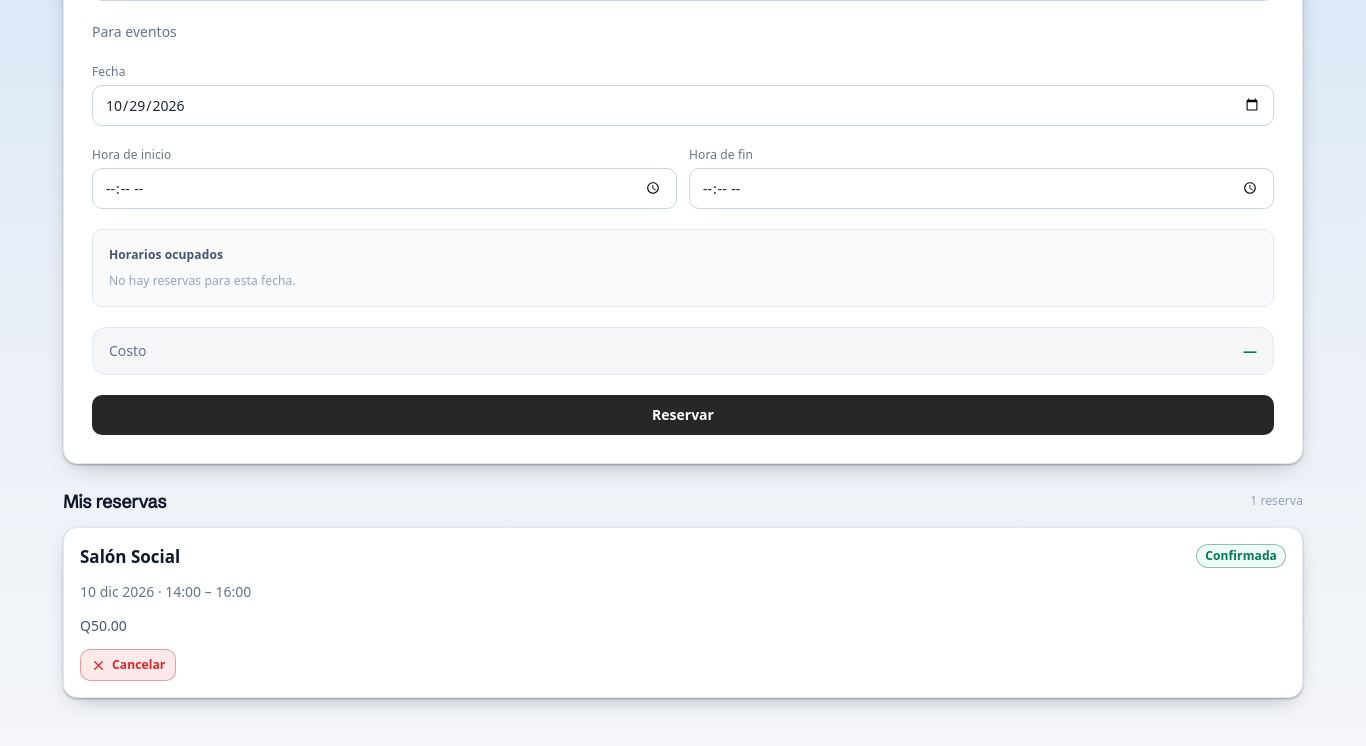
Test: ReservasPage (residente) › muestra el reembolso que aplicaría ANTES de confirmar la cancelación
(page scrolled)
Click the button "Cancelar" at [128, 665], box [80,649,176,681]
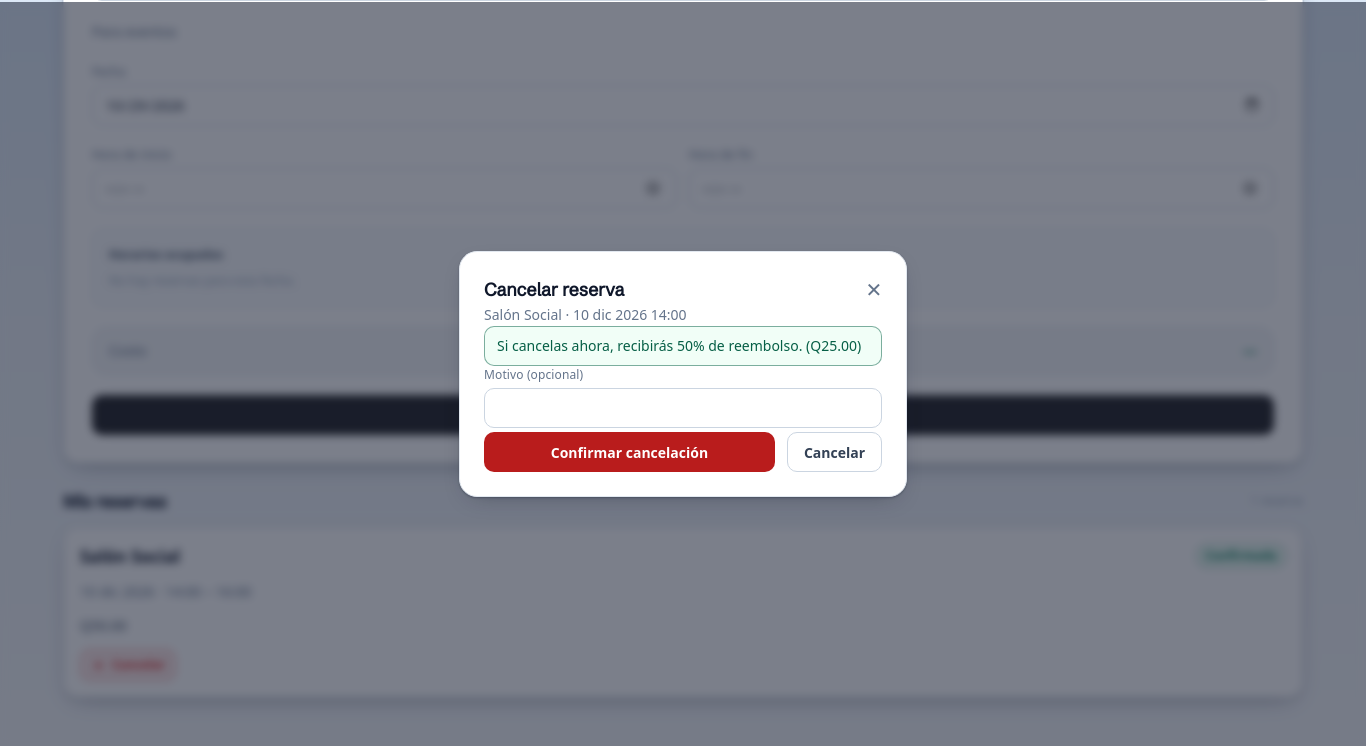
Expected: the text "Si cancelas ahora, recibirás 50% de reembolso. (Q25.00)" is shown, [484,326,882,366]
